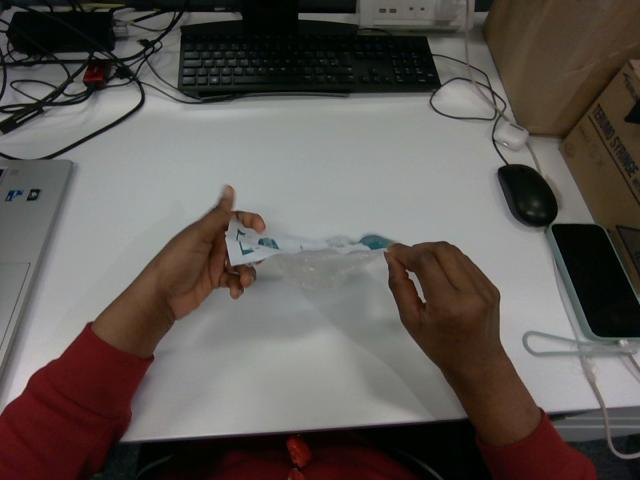gallipot: (226, 219, 391, 287)
